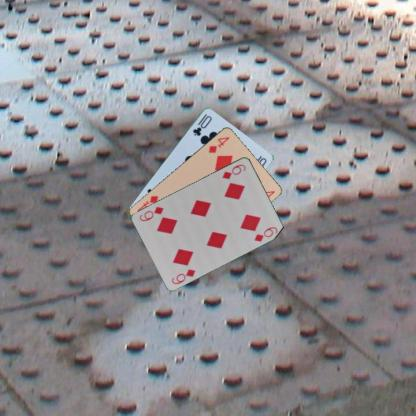10c: (190, 111, 213, 137)
4d: (206, 134, 231, 154)
6d: (170, 266, 196, 286), (220, 161, 247, 180)
